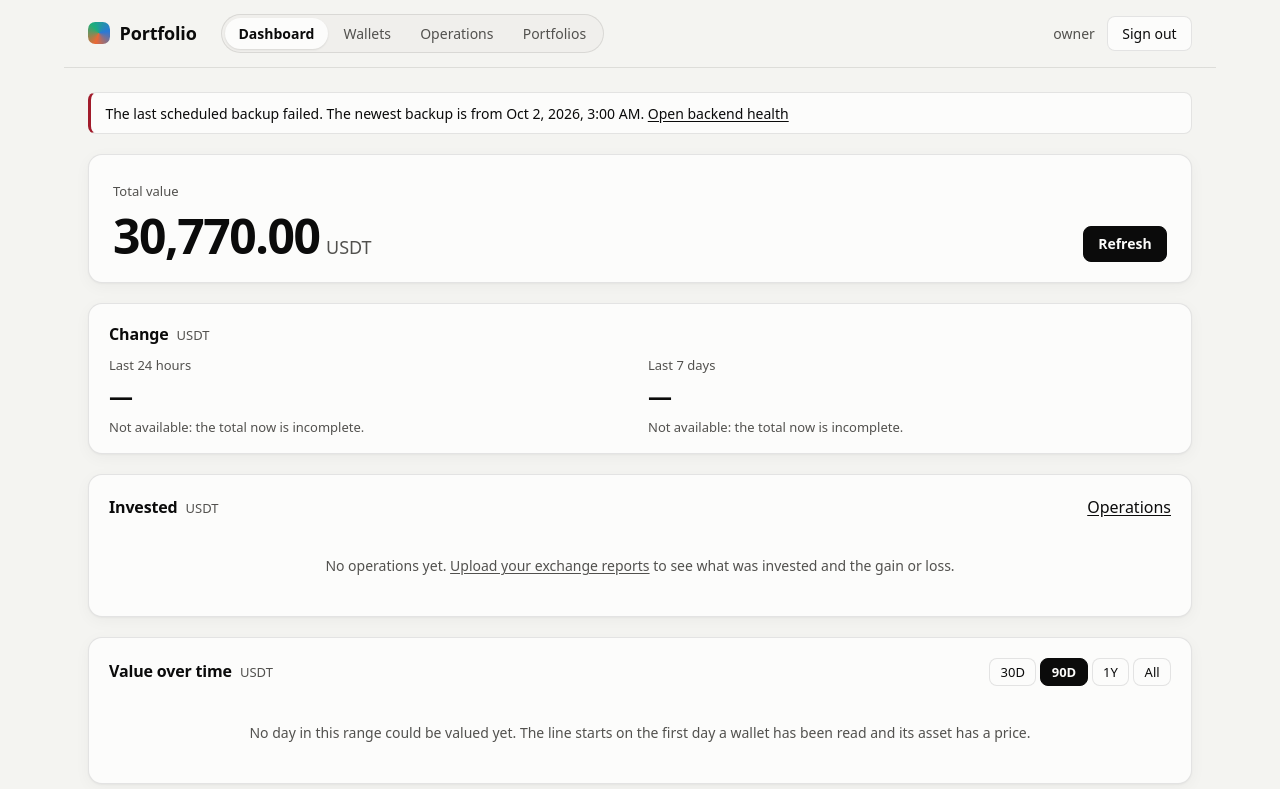
Scenario: the dashboard and the backup warning › links to the Health page, which says why
The image size is (1280, 789).
Step 1. Click the link "Open backend health" → {"x": 718, "y": 113}, box left=648, top=104, right=789, bottom=123
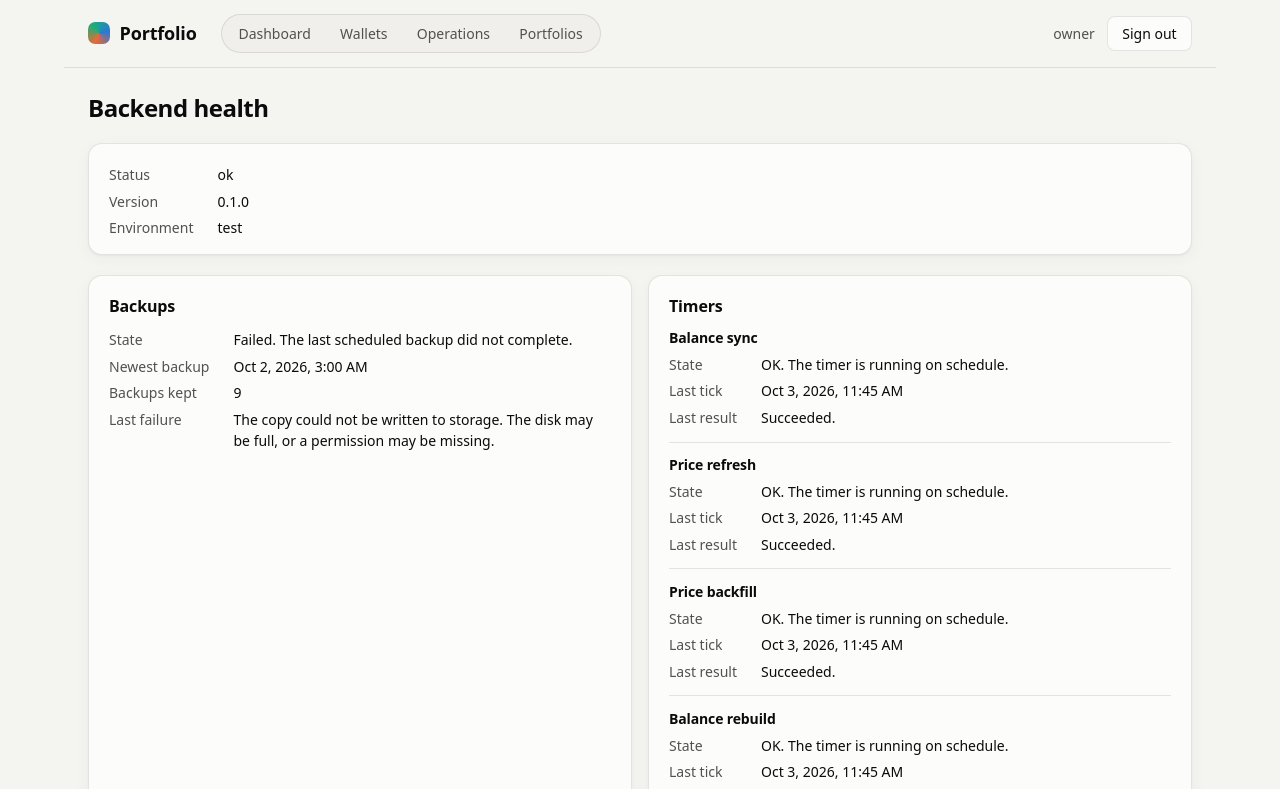
Expected: the text "Failed. The last scheduled backup did not complete." is shown, left=234, top=329, right=611, bottom=350
